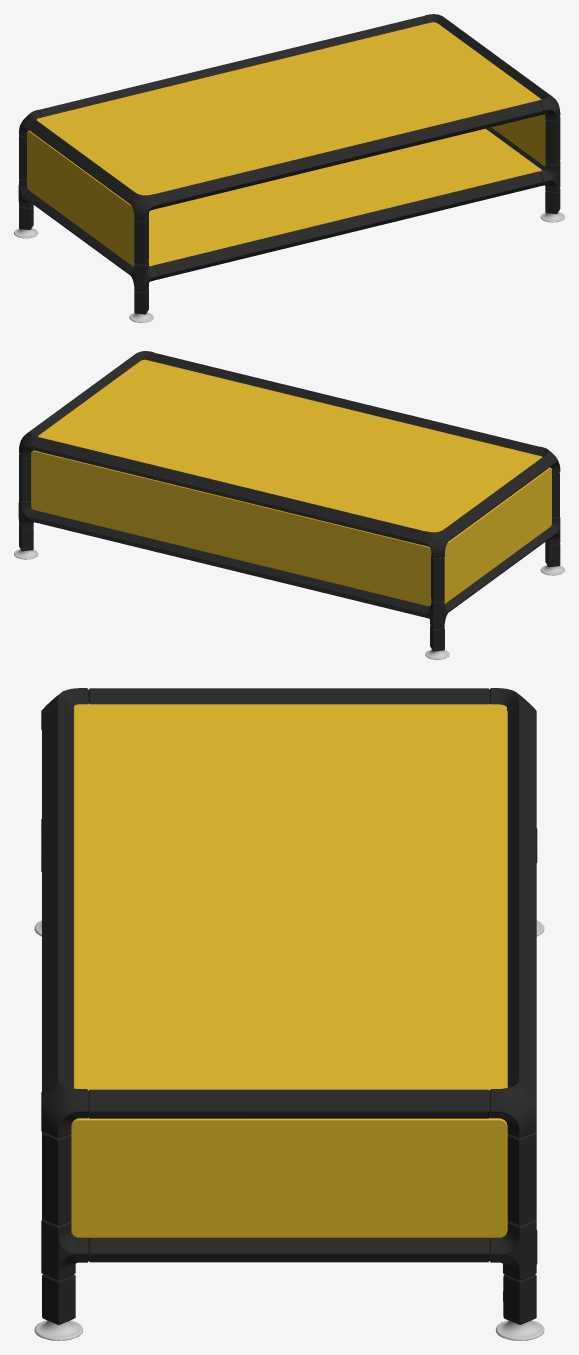
The picture shows the model from 3 angles, top to bottom: view 1: azimuth 30°, elevation 25°; view 2: azimuth 150°, elevation 25°; view 3: azimuth 270°, elevation 25°; orthographic projection. The views are drawn at different scales.
Parts seen in each view (by area): view 1: 729x329x79; view 2: 729x329x79; view 3: 729x329x79.
Part boxes in pixels (x1,y1,x2,y2): 729x329x79: (14, 14, 564, 322); 729x329x79: (14, 351, 564, 659); 729x329x79: (34, 688, 544, 1340).
Bounding box in the file's own units: 0.8189 × 0.2184 × 0.4181.
